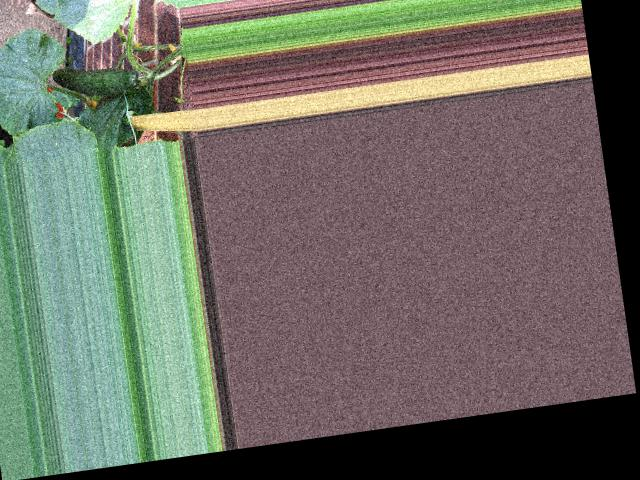cucumber: (51, 57, 141, 102)
